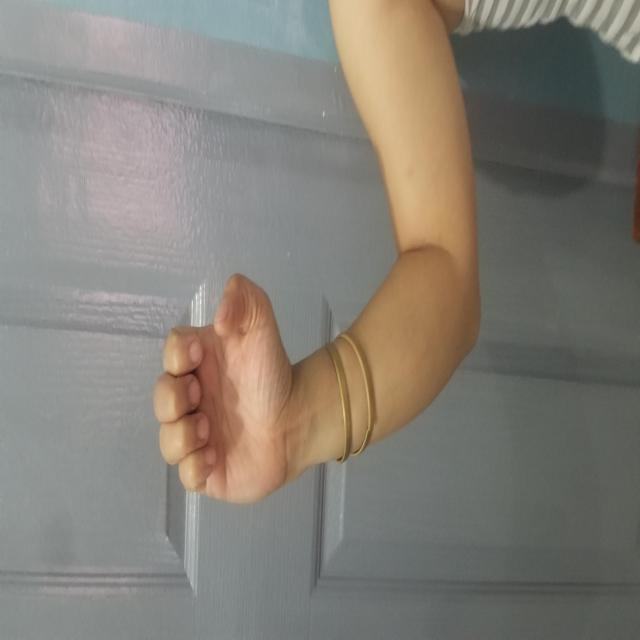E: (134, 154, 366, 292)
